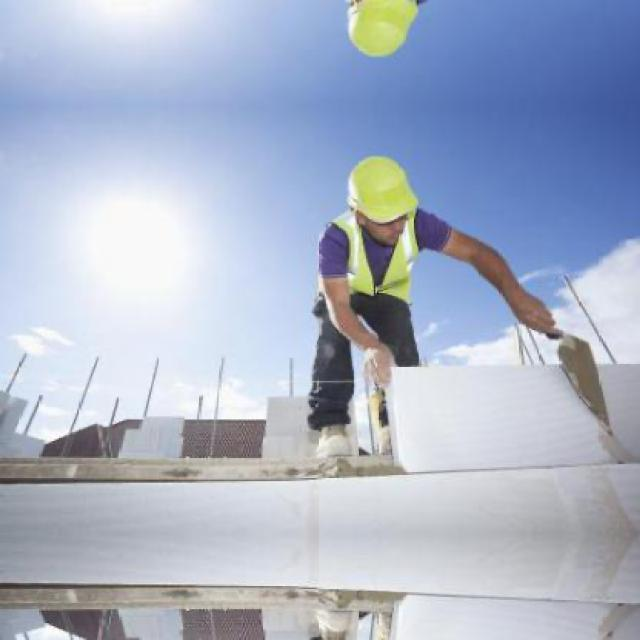con casco: (314, 149, 439, 270)
